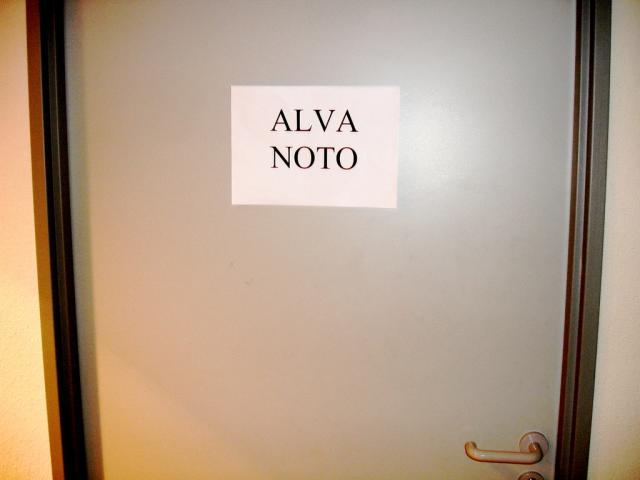Door-handle: (466, 432, 550, 464)
